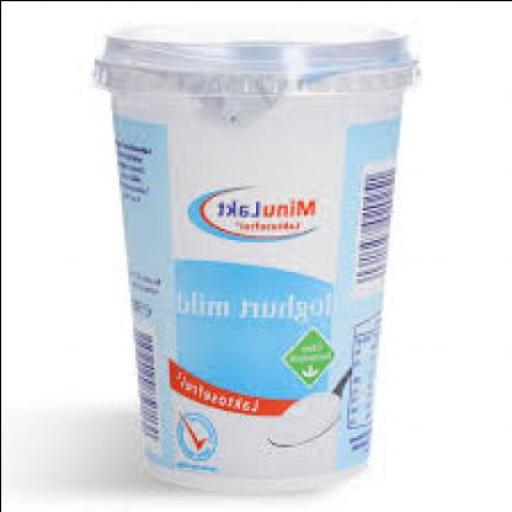plastic: (94, 23, 424, 496)
